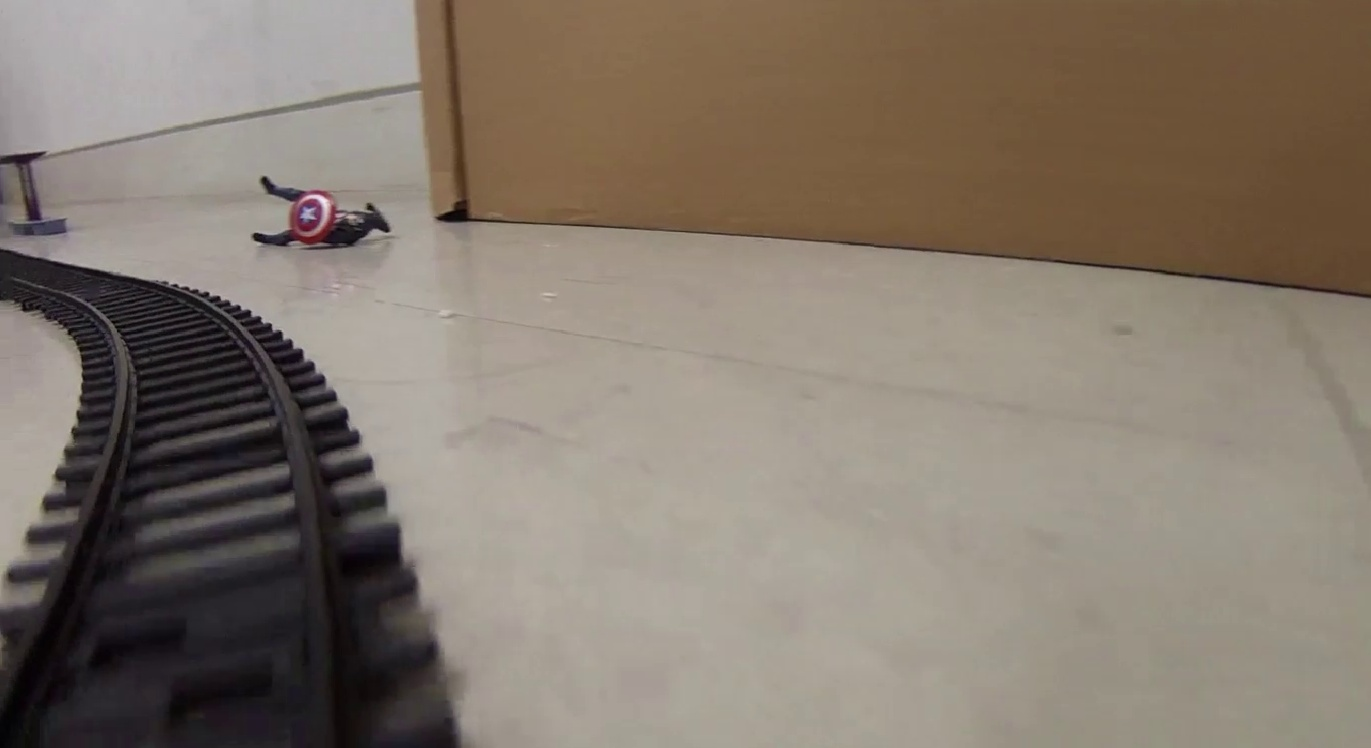people: (252, 172, 395, 254)
